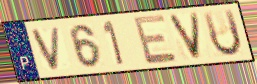1: (102, 19, 127, 67)
6: (68, 22, 103, 69)
E: (130, 12, 179, 66)
U: (201, 7, 244, 59)
V: (166, 10, 204, 62), (30, 25, 63, 72)
